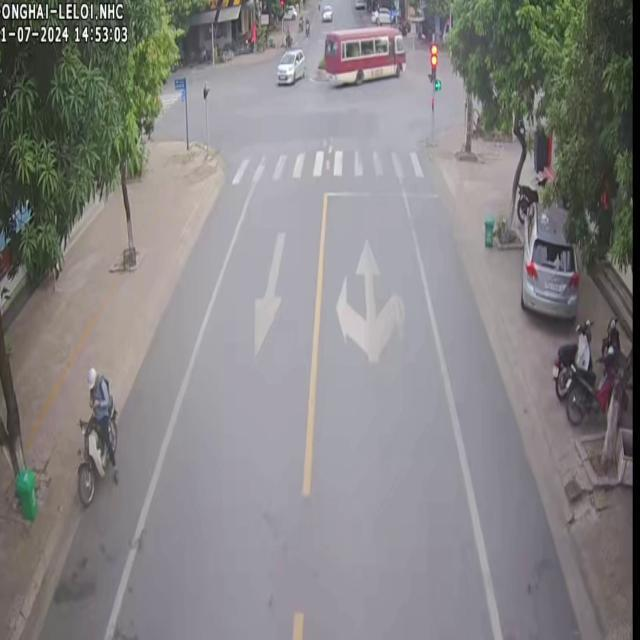car: (519, 200, 578, 316), (323, 25, 404, 82), (276, 47, 304, 82)
motobike: (76, 365, 117, 502), (564, 340, 619, 422), (550, 318, 590, 398)
red_light: (429, 46, 438, 79)
stop_line: (321, 190, 444, 196)
